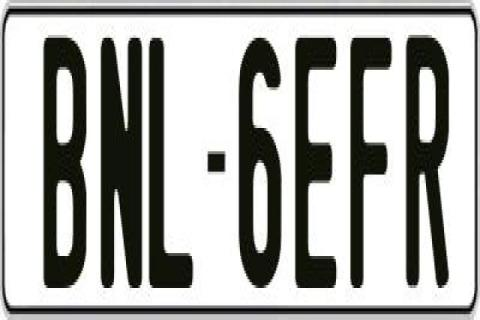0: (238, 35, 284, 285)
B: (40, 38, 84, 294)
E: (291, 38, 338, 300)
F: (346, 38, 390, 300)
L: (149, 32, 197, 282)
N: (98, 38, 138, 297)
R: (406, 29, 454, 285)
